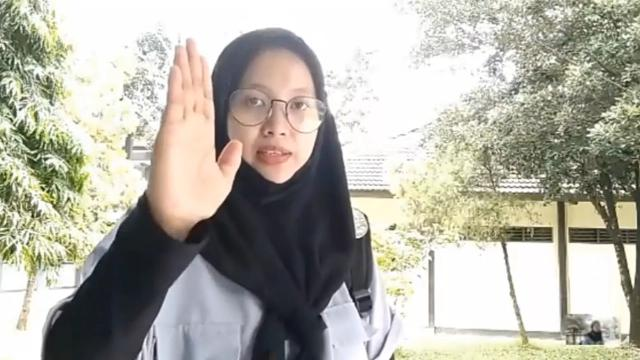B: (148, 35, 242, 225)
